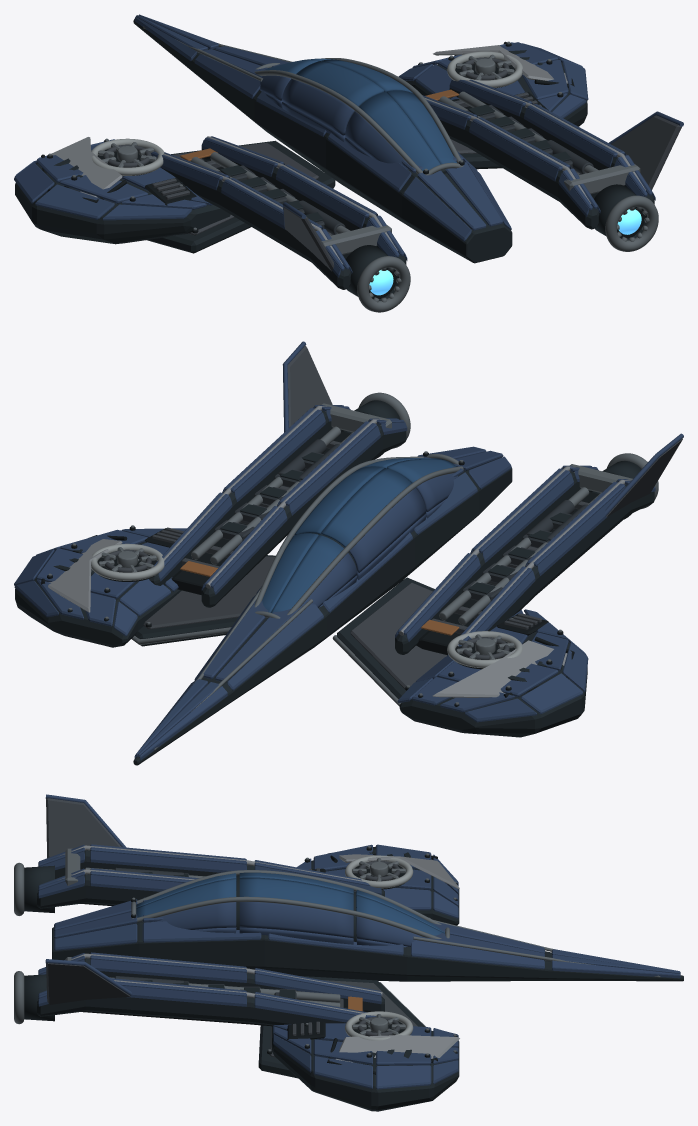
Rendered from liberator.glb.
The picture shows the model from 3 angles, top to bottom: view 1: azimuth 30°, elevation 25°; view 2: azimuth 150°, elevation 25°; view 3: azimuth 270°, elevation 25°; orthographic projection. The views are drawn at different scales.
Parts seen in each view (by area): view 1: liberator; view 2: liberator; view 3: liberator.
Boxes of the visible parts, bbox=[...] form: liberator: bbox=[14, 14, 683, 312]; liberator: bbox=[14, 341, 683, 765]; liberator: bbox=[14, 794, 683, 1111].
Size of the model in its own units: 4.47 by 1.09 by 5.27.
